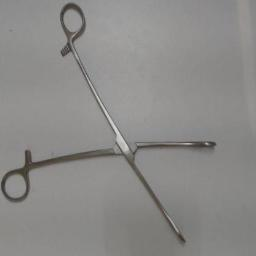Sponge Forceps: (0, 2, 220, 248)
